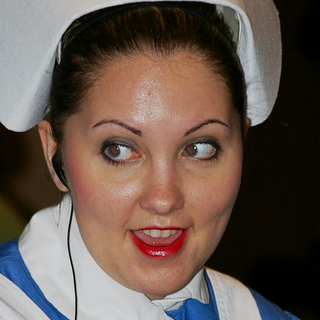eye: (92, 135, 150, 169), (175, 133, 227, 166)
